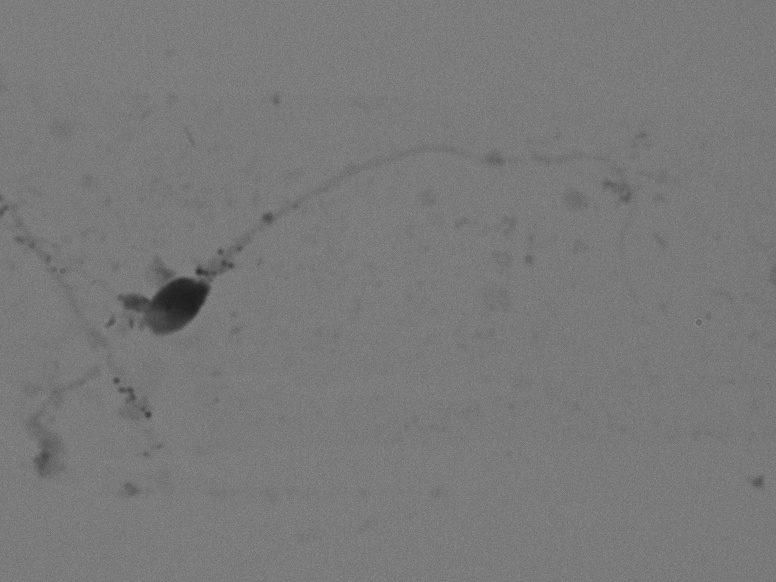Abnormal: (121, 110, 652, 389)
